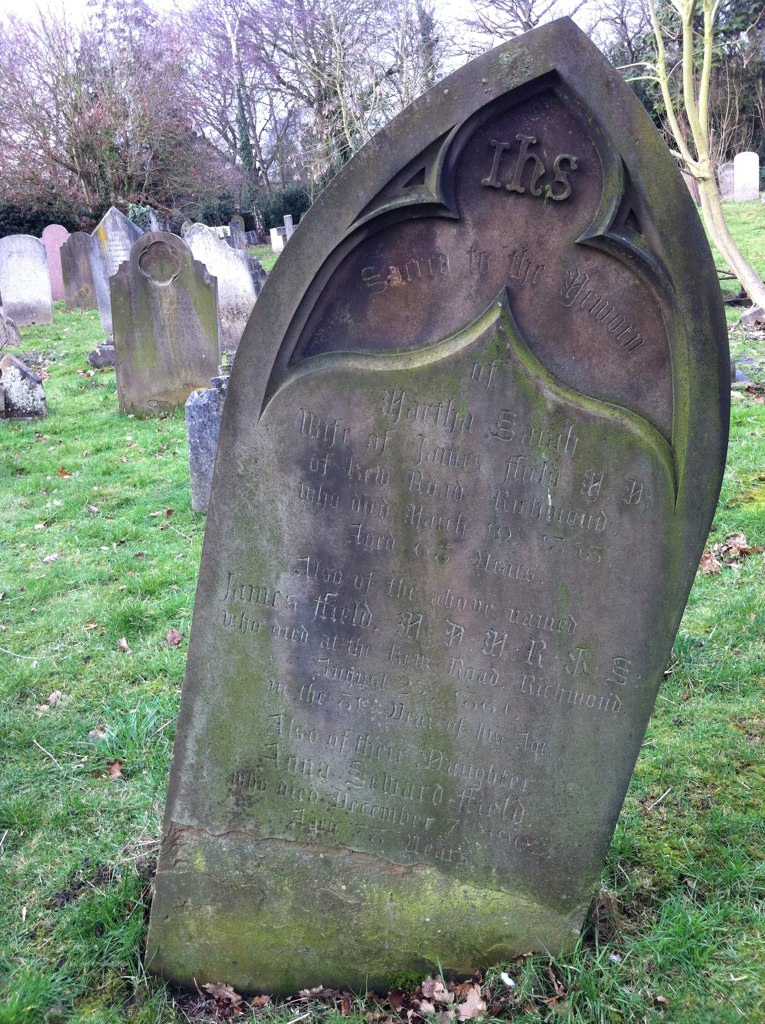upright: (146, 10, 733, 992)
